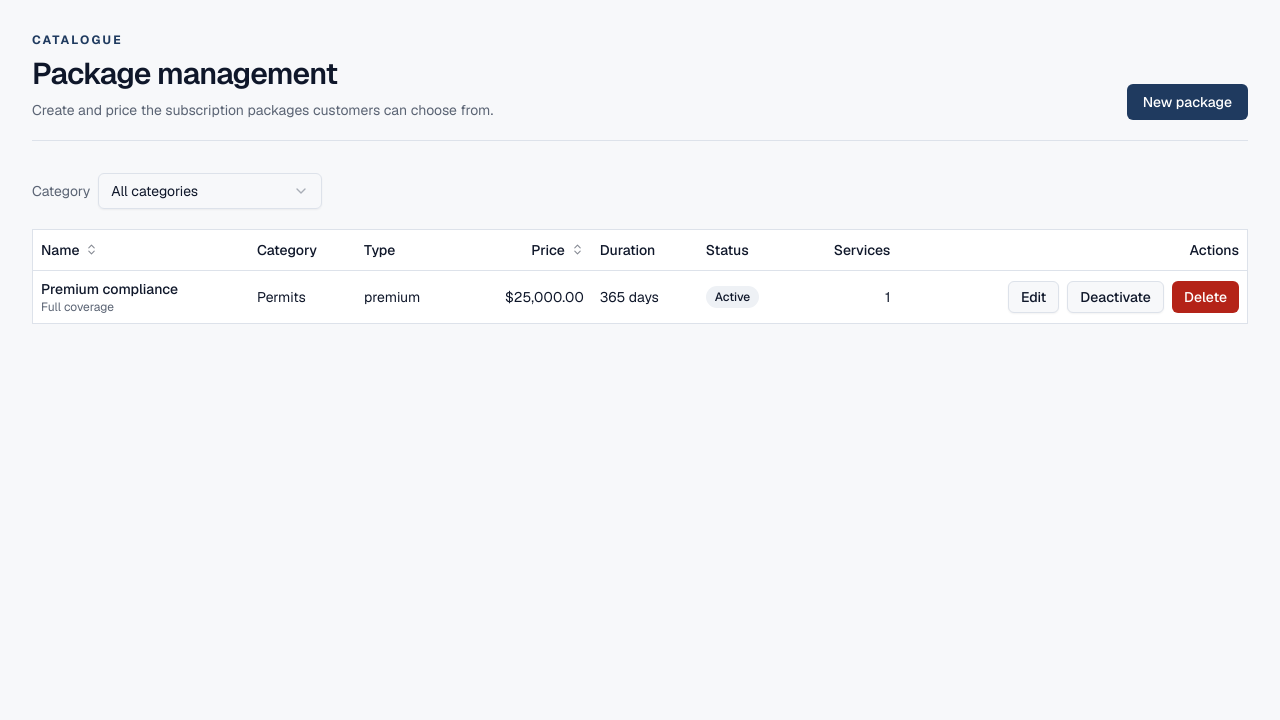
Test: admin packages › keeps the 409 visible in the delete dialog and does not close it
The width and height of the screenshot is (1280, 720).
Check: the text "Premium compliance" is shown, box left=41, top=280, right=178, bottom=298
Click the button "Delete" at (1205, 296), box left=1172, top=280, right=1239, bottom=312
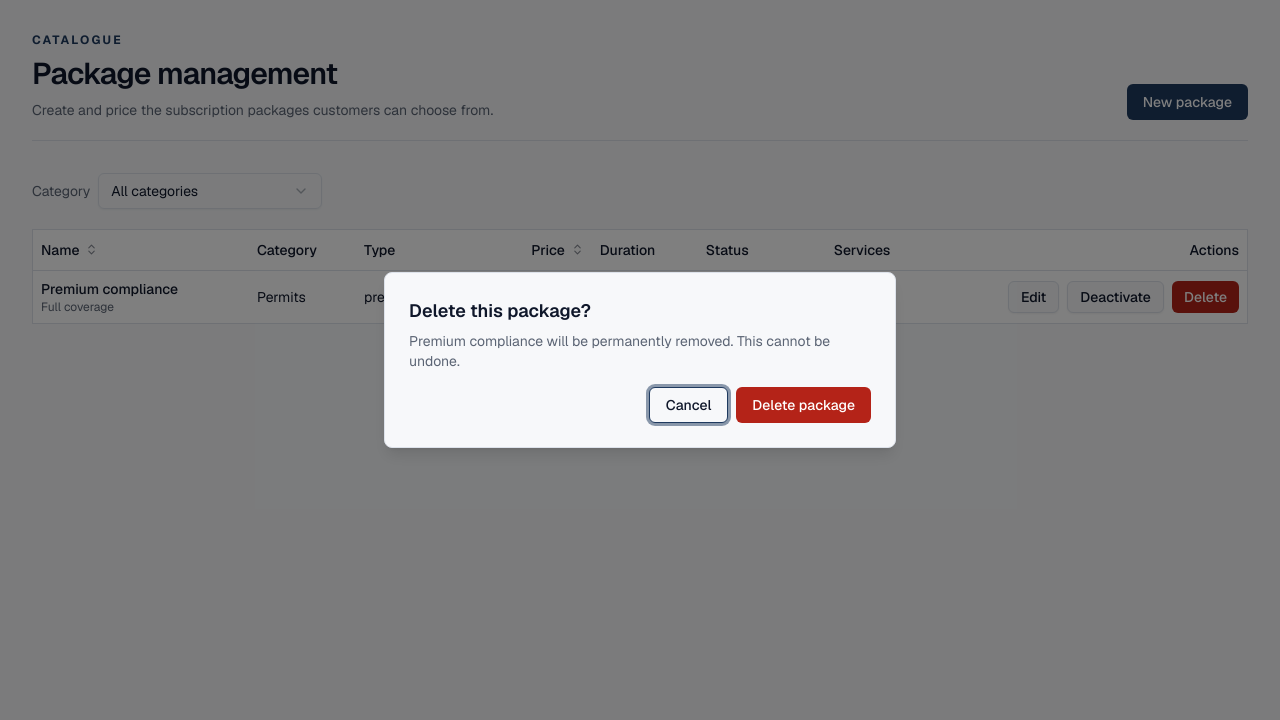
Click the button "Delete package" at (804, 405), box left=736, top=387, right=871, bottom=423
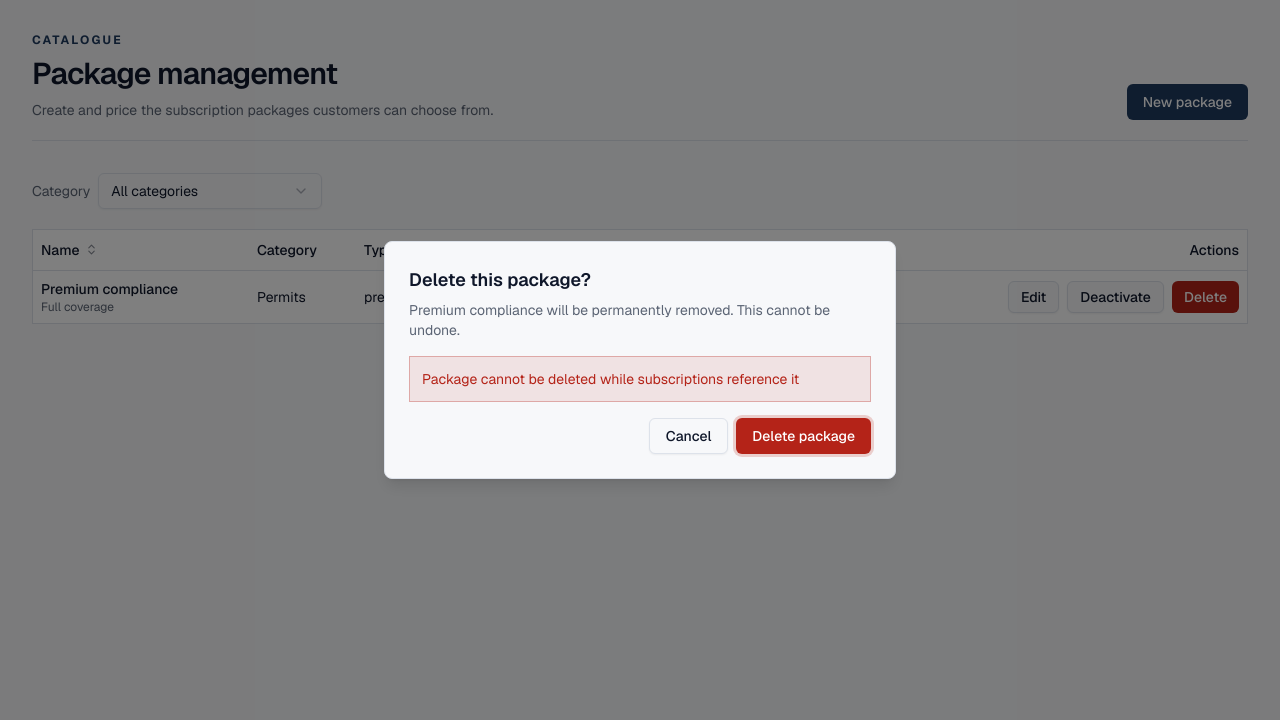
Check: the heading "Delete this package?" is shown, box left=409, top=266, right=591, bottom=294
Check: the message reads "Package cannot be deleted while subscriptions reference it", box left=422, top=370, right=799, bottom=388
